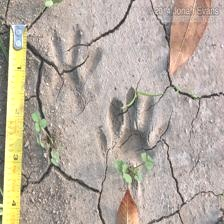raccoon: (93, 88, 177, 178), (41, 22, 108, 120)
